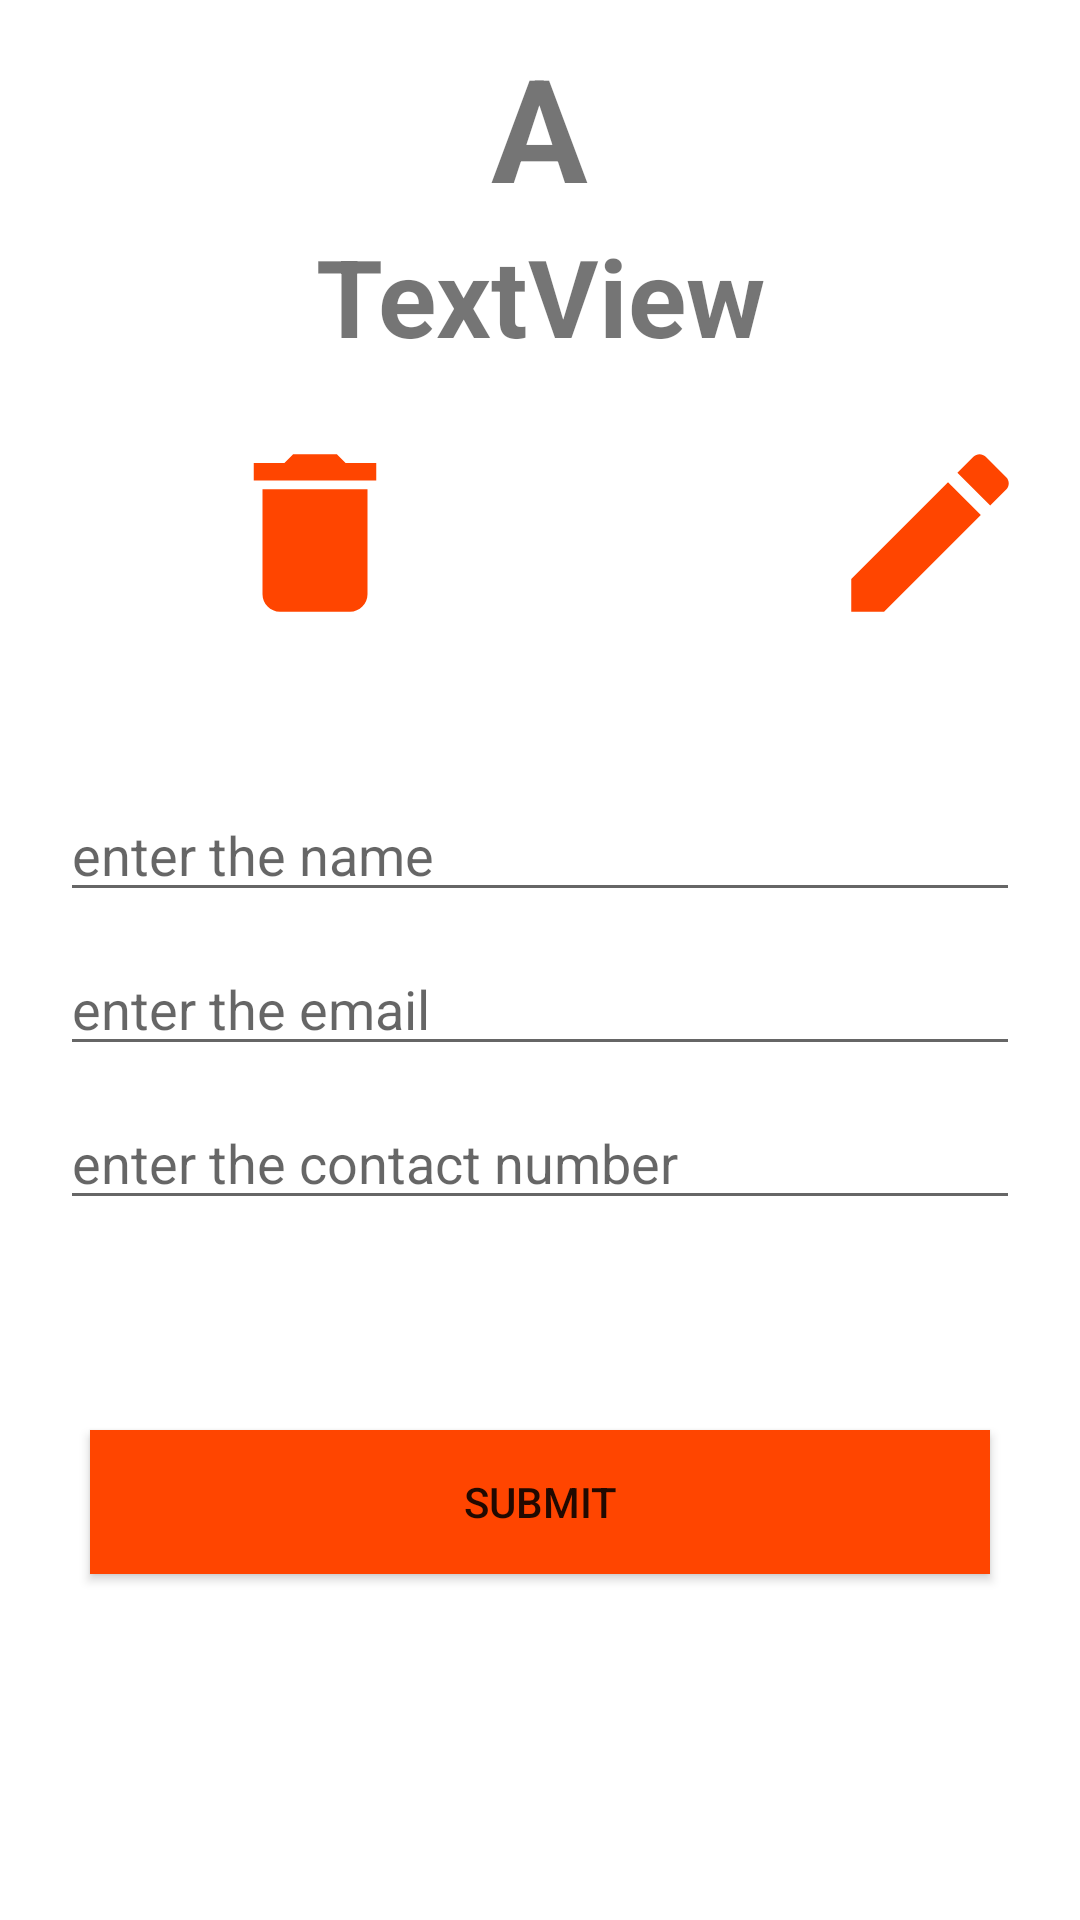

Icon bounding boxes for this 1080px x 1920px phone screenshot, format (x1, y1, x2, y2):
delete: (253, 454, 377, 612)
